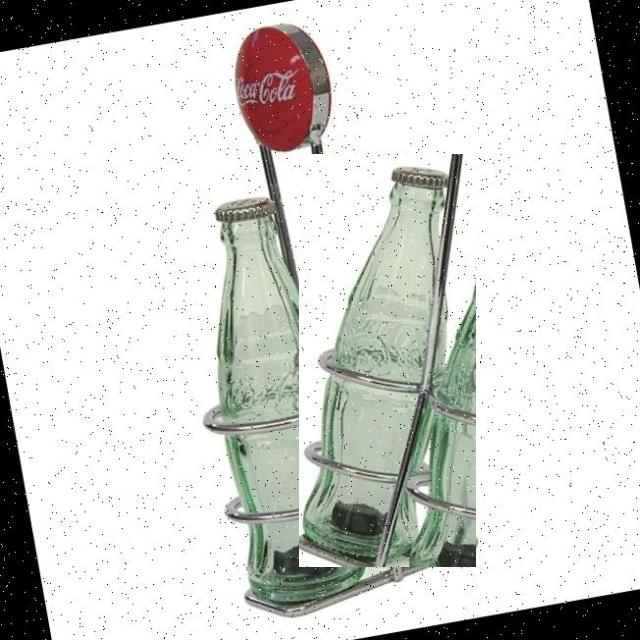coca-cola: (182, 168, 378, 619), (299, 154, 476, 567)
